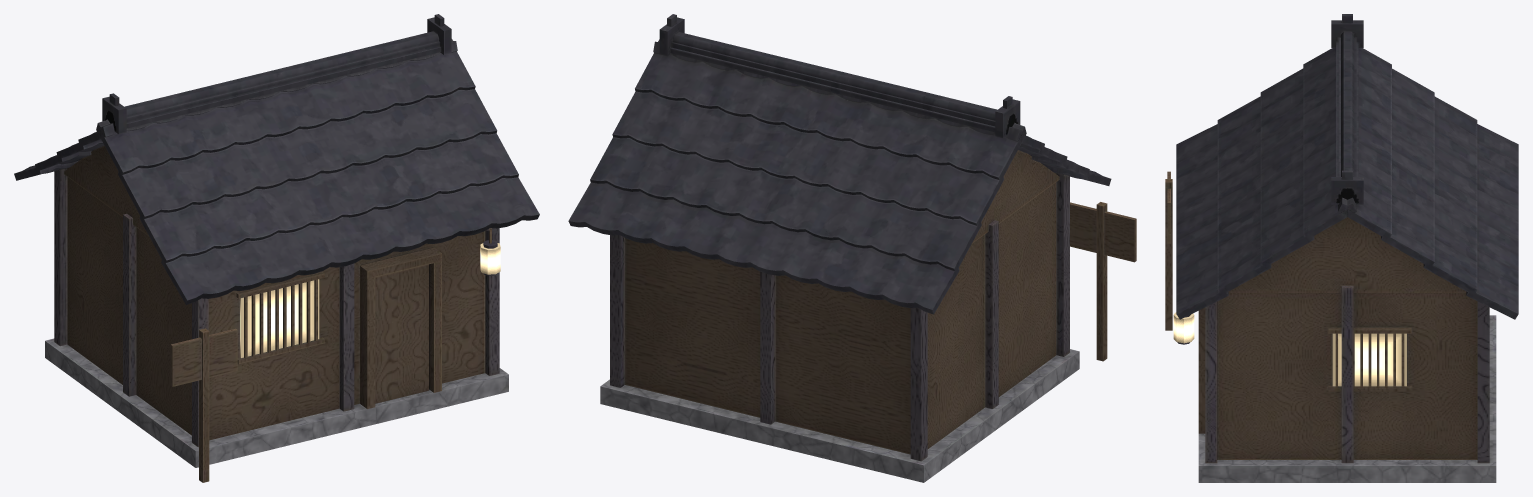
File: k_minato_banya.glb
3 views of the same model, side by side, from view 1: azimuth 30°, elevation 25°; view 2: azimuth 150°, elevation 25°; view 3: azimuth 270°, elevation 25° (orthographic). The views are drawn at different scales.
Visible parts, largest first — view 1: k_minato_banya; view 2: k_minato_banya; view 3: k_minato_banya.
Boxes of the visible parts, <box> form: k_minato_banya: <box>14,14,539,482</box>; k_minato_banya: <box>568,14,1136,482</box>; k_minato_banya: <box>1165,14,1518,482</box>.
Size of the model in its own units: 5.7 by 4.66 by 4.75.
2 materials, 1 textured.
